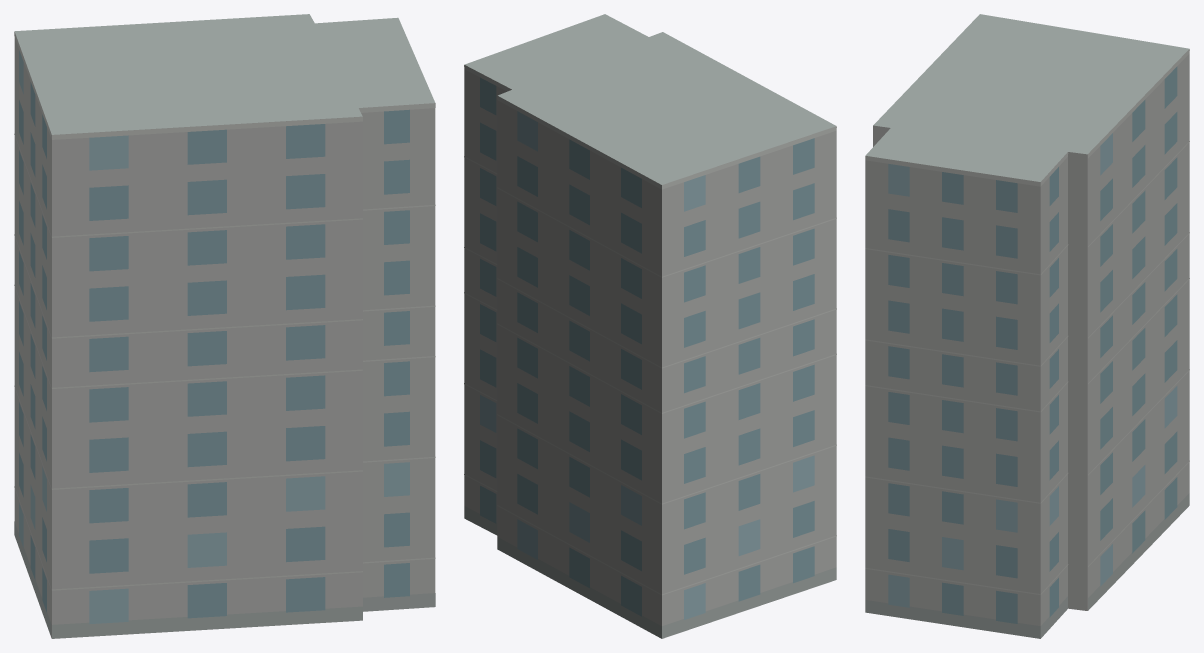
The model's file is survey-upis-32747363.glb.
3 views of the same model, side by side, from view 1: azimuth 30°, elevation 25°; view 2: azimuth 150°, elevation 25°; view 3: azimuth 270°, elevation 25° (orthographic). The views are drawn at different scales.
Parts seen in each view (by area): view 1: survey-upis-32747363.tmp; view 2: survey-upis-32747363.tmp; view 3: survey-upis-32747363.tmp.
Boxes of the visible parts, bbox=[...] form: survey-upis-32747363.tmp: bbox=[14, 14, 435, 638]; survey-upis-32747363.tmp: bbox=[464, 14, 836, 638]; survey-upis-32747363.tmp: bbox=[865, 14, 1189, 638].
Size of the model in its own units: 19.28 by 24.4 by 15.73.
